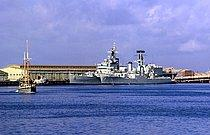MIL_Ship: (99, 57, 177, 84), (68, 48, 118, 85)
